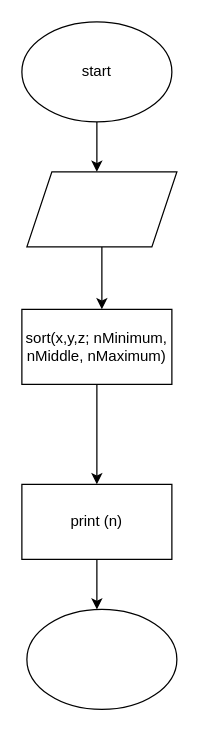
Image size: 199x731. Some labels were removed from this diagram. Here are the shapes that lost their labels. From the top down, the centre of each, then its label:
[101,209]: input(n; x, y, z)
[101,658]: End
